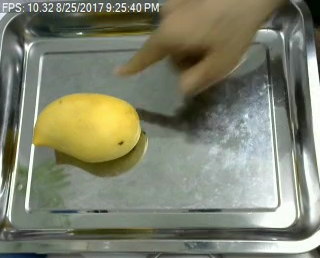Mango: (29, 90, 143, 165)
